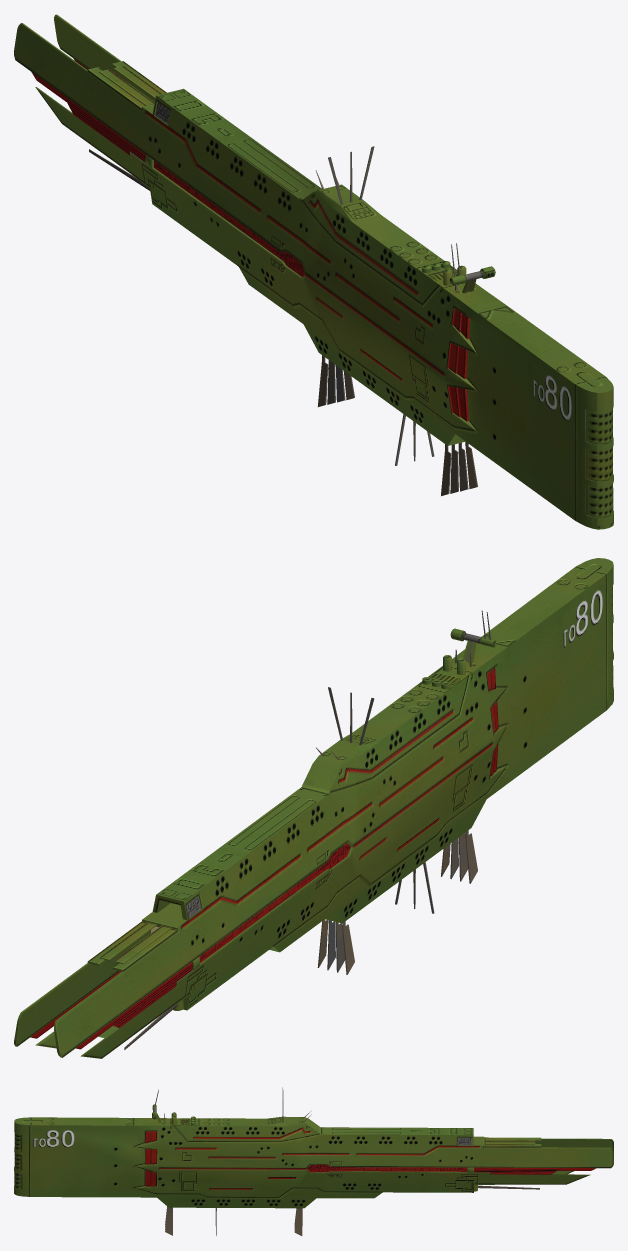
File: FPA_CommandShip_Krishna.obj
3 views of the same model, one above another, from view 1: azimuth 30°, elevation 25°; view 2: azimuth 150°, elevation 25°; view 3: azimuth 270°, elevation 25° (orthographic). The views are drawn at different scales.
Parts seen in each view (by area): view 1: FPA_CommandShip_Krishna; view 2: FPA_CommandShip_Krishna; view 3: FPA_CommandShip_Krishna.
Boxes of the visible parts, <box> form: FPA_CommandShip_Krishna: <box>14,14,613,529</box>; FPA_CommandShip_Krishna: <box>14,558,613,1058</box>; FPA_CommandShip_Krishna: <box>14,1087,613,1235</box>.
Size of the model in its own units: 46.49 by 238 by 927.
